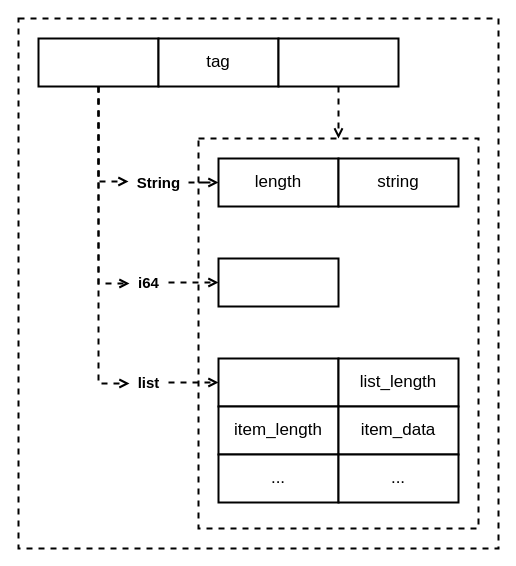
This 516x566 diagram has some shape labels left out. Here are the shapes that lost their labels. From the top down, the centre of each, then its label:
pixel 98 62: type
pixel 338 62: data
pixel 278 282: num
pixel 278 382: item_type
